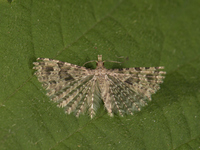Alucitidae: (31, 53, 168, 120)
moth: (29, 51, 166, 118)
